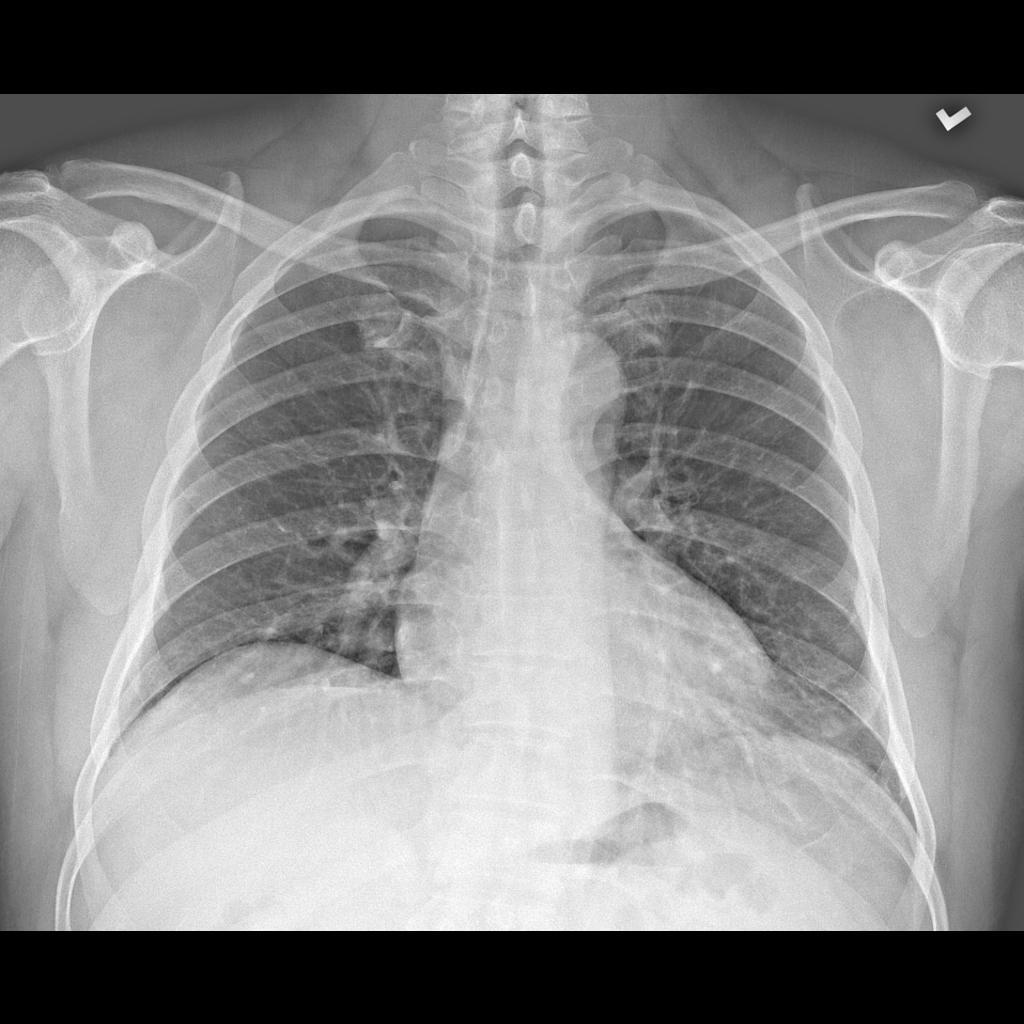Nodule: (813, 709, 859, 751)
